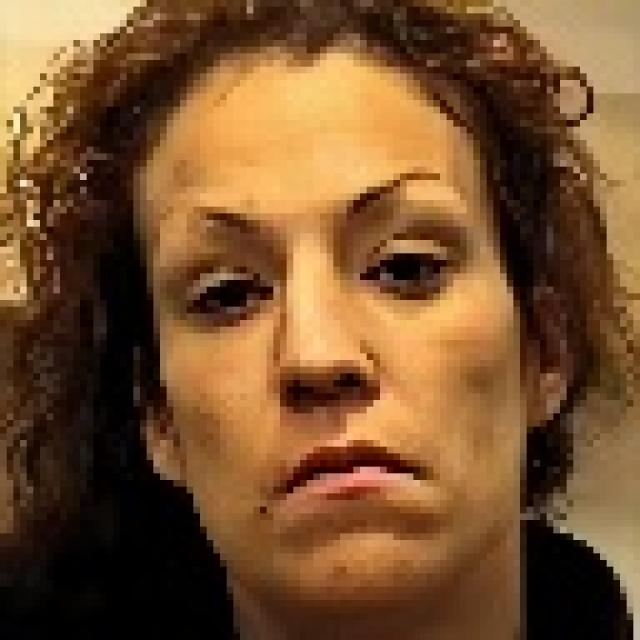angry: (115, 0, 552, 640)
